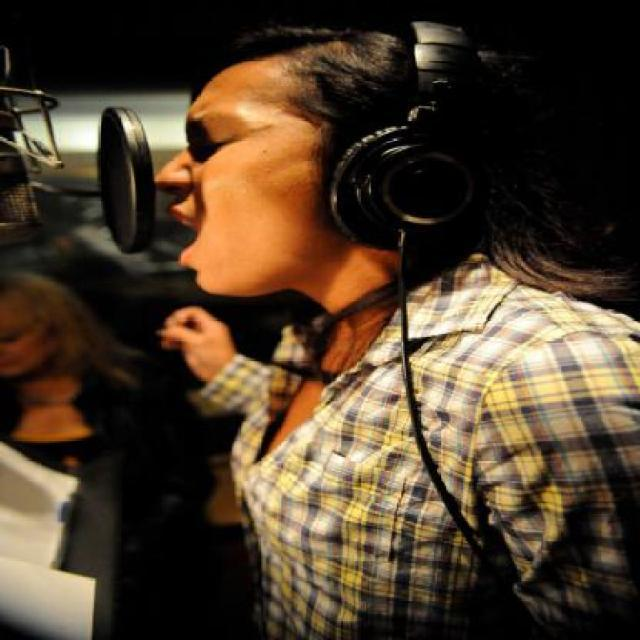earphone: (333, 13, 500, 288)
